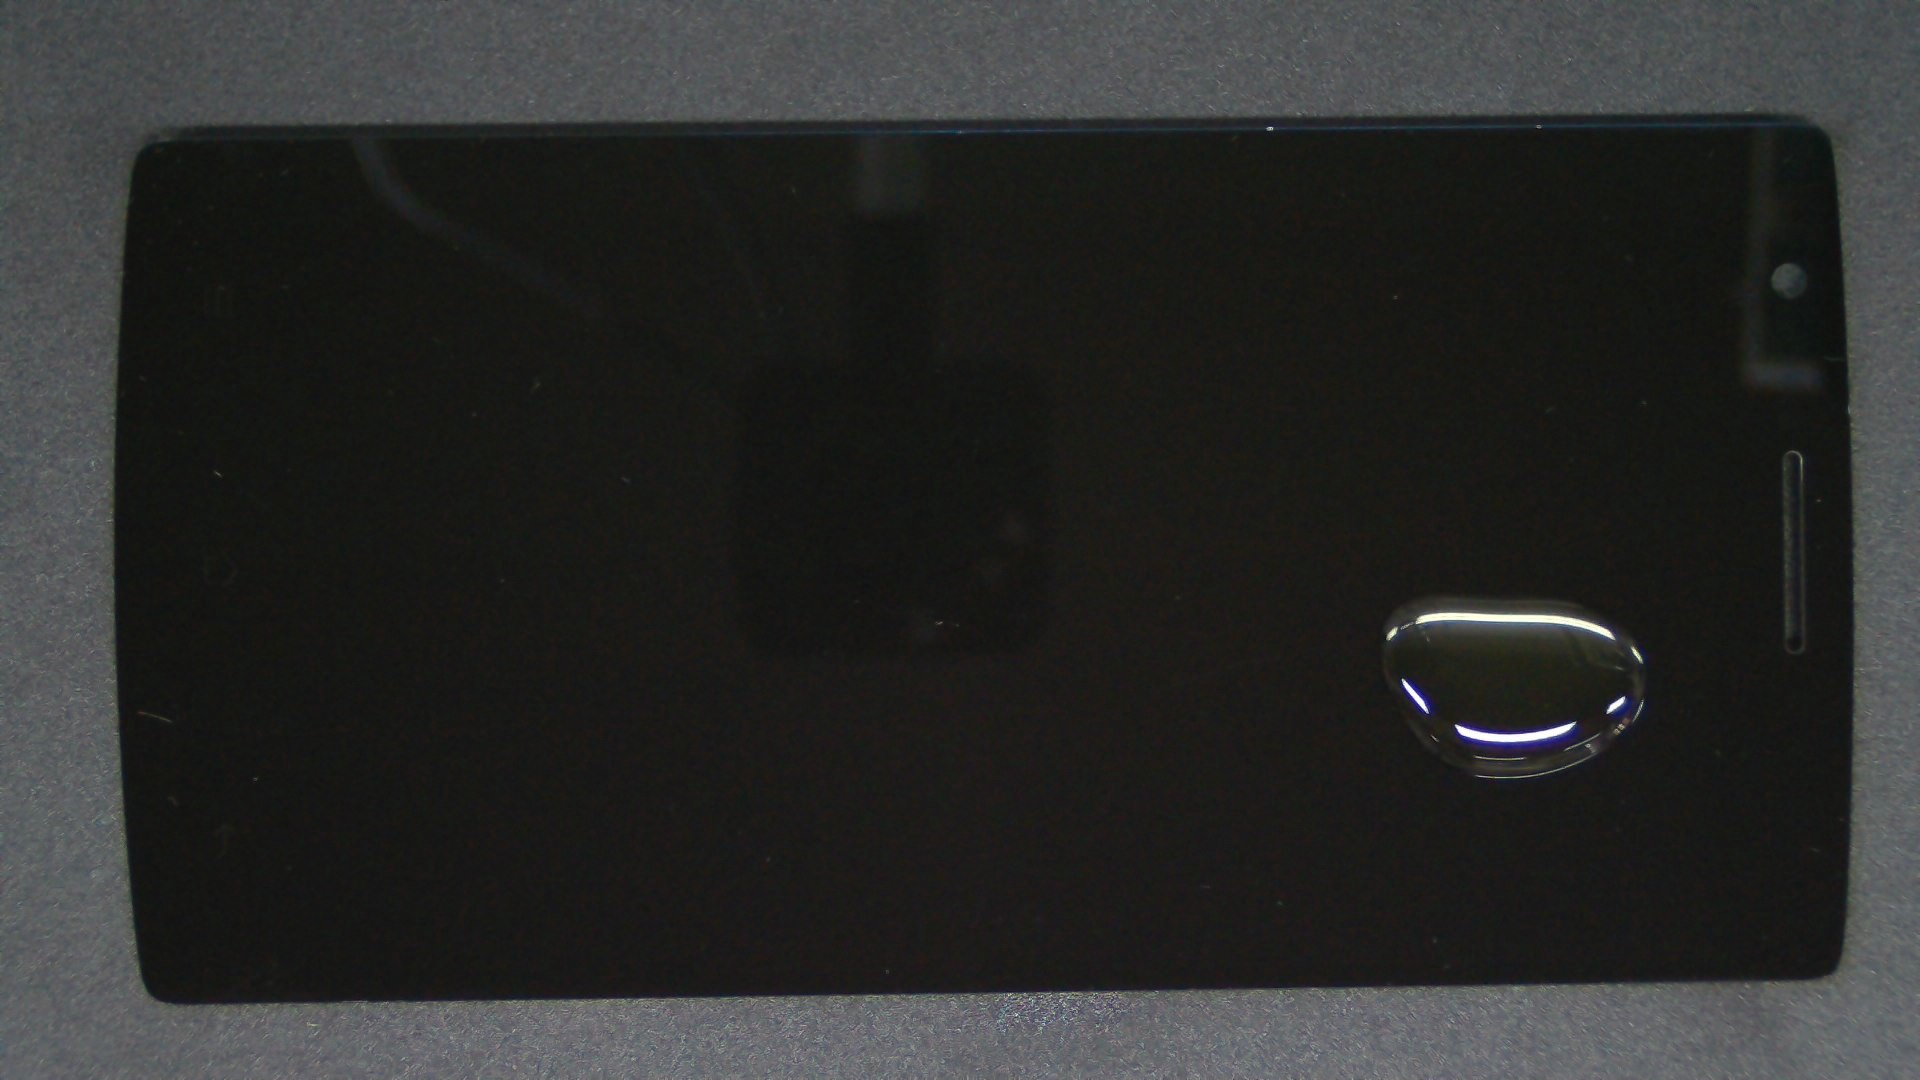oil: (717, 297, 1920, 893)
